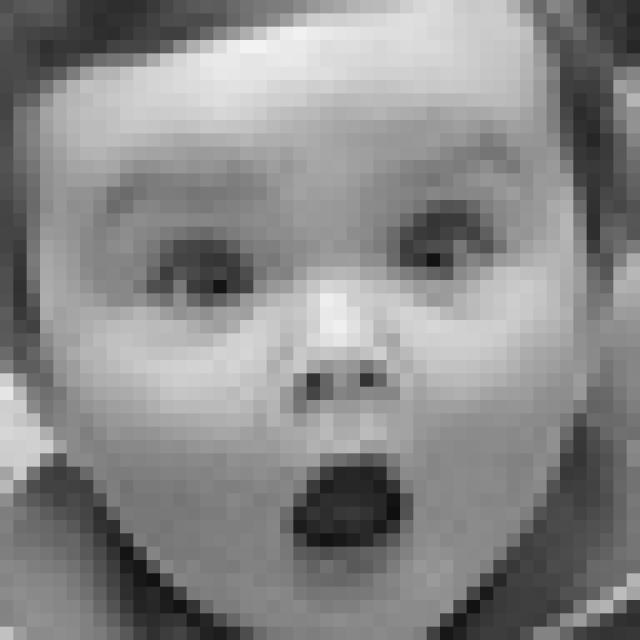surprise: (86, 134, 538, 581)
